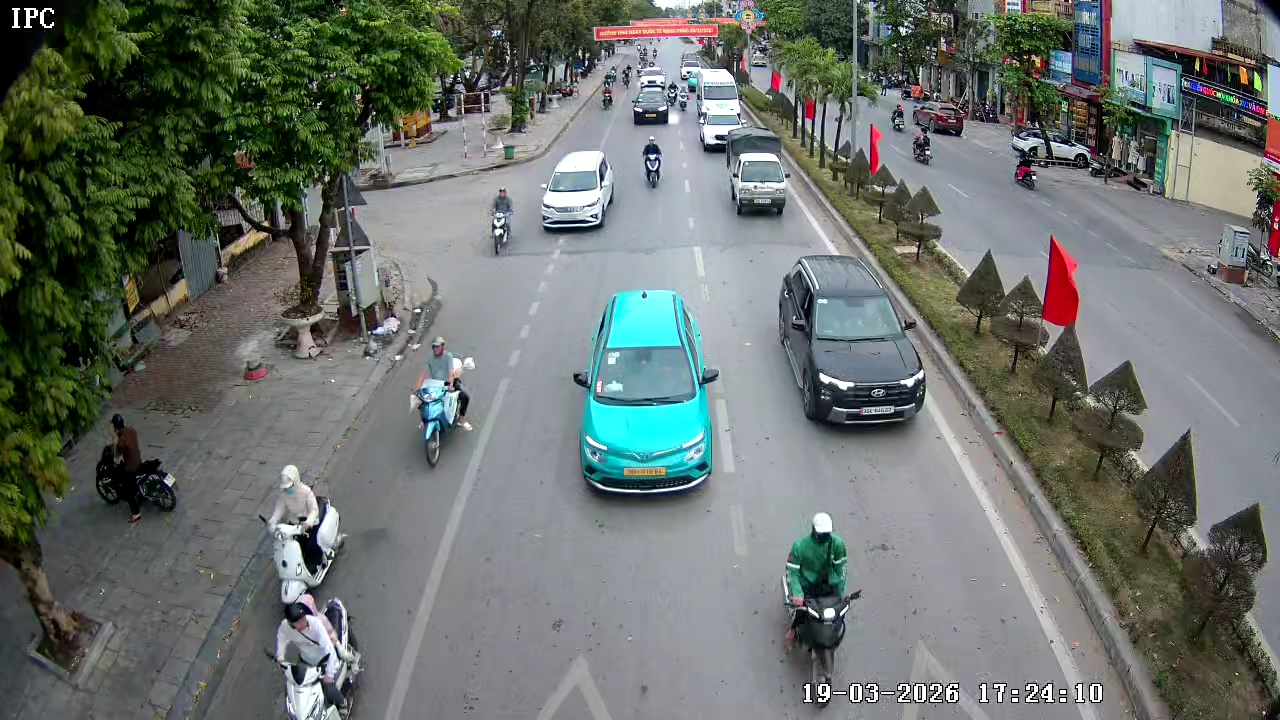car: (573, 288, 720, 496), (778, 255, 927, 424), (539, 150, 616, 233), (696, 100, 745, 151), (630, 83, 671, 126)
motorbike: (781, 511, 862, 702), (258, 586, 366, 718), (256, 464, 343, 584), (93, 411, 179, 524), (409, 334, 476, 468), (486, 186, 517, 258), (1011, 129, 1044, 191), (640, 133, 664, 190), (600, 83, 616, 110)
truck: (725, 128, 791, 218)
